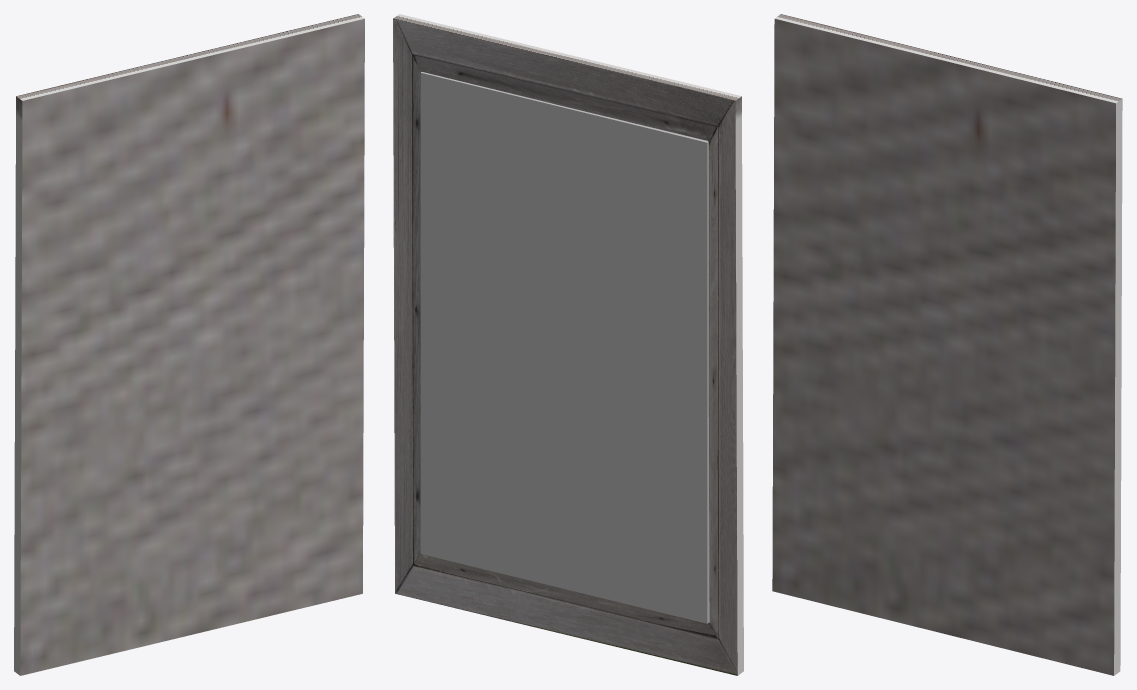
File: Picture1.fbx
The picture shows the model from 3 angles, left to right: view 1: azimuth 30°, elevation 25°; view 2: azimuth 150°, elevation 25°; view 3: azimuth 330°, elevation 25°; orthographic projection.
Visible parts, largest first — view 1: Cube.007; view 2: Cube.008, Cube.007; view 3: Cube.007.
Boxes of the visible parts, bbox=[...] form: Cube.007: bbox=[14, 14, 364, 675]; Cube.008: bbox=[420, 72, 709, 623]; Cube.007: bbox=[393, 14, 743, 675]; Cube.007: bbox=[772, 14, 1122, 675].
Size of the model in its own units: 201 by 321 by 7.82.
